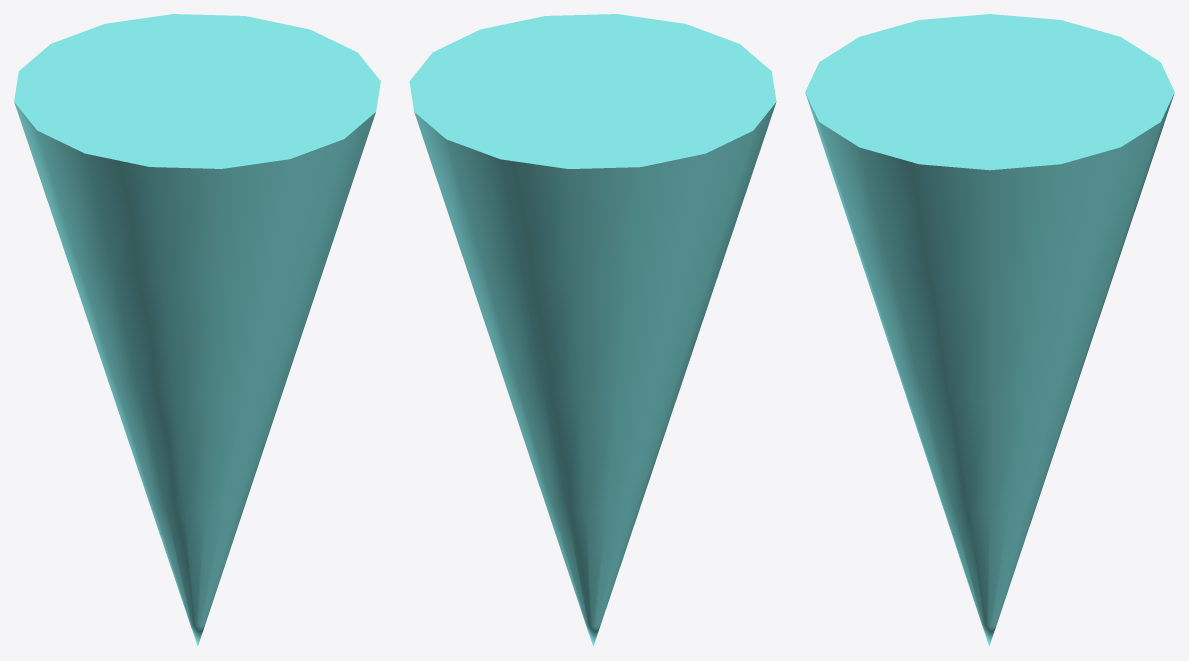
Rendered from bingzhui.FBX.
The picture shows the model from 3 angles, left to right: view 1: azimuth 30°, elevation 25°; view 2: azimuth 150°, elevation 25°; view 3: azimuth 270°, elevation 25°; orthographic projection.
Parts seen in each view (by area): view 1: 冰锥; view 2: 冰锥; view 3: 冰锥.
Part boxes in pixels (x1,y1,x2,y2): 冰锥: (14,14,380,646); 冰锥: (409,14,776,646); 冰锥: (805,14,1174,646).
Bounding box in the file's own units: 48.86 × 80.9 × 48.86.
